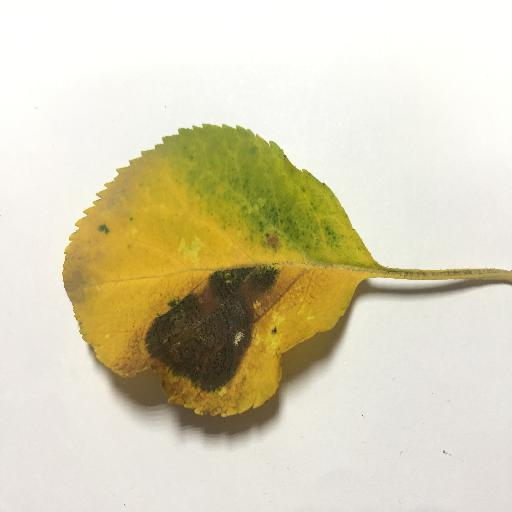Brown_Spot: (135, 270, 294, 390)
